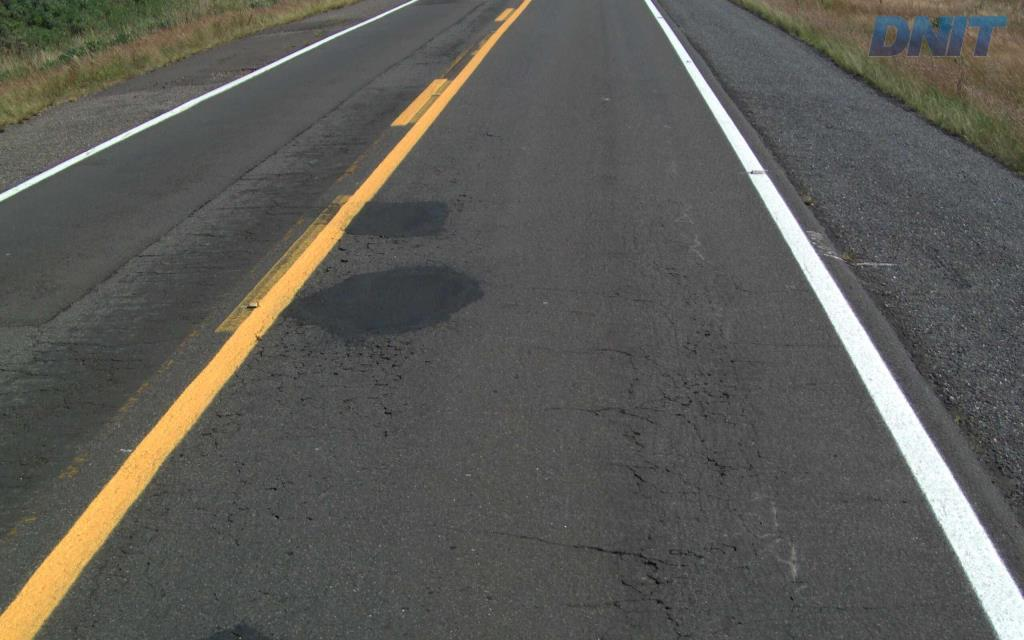crack: (586, 546, 667, 572)
